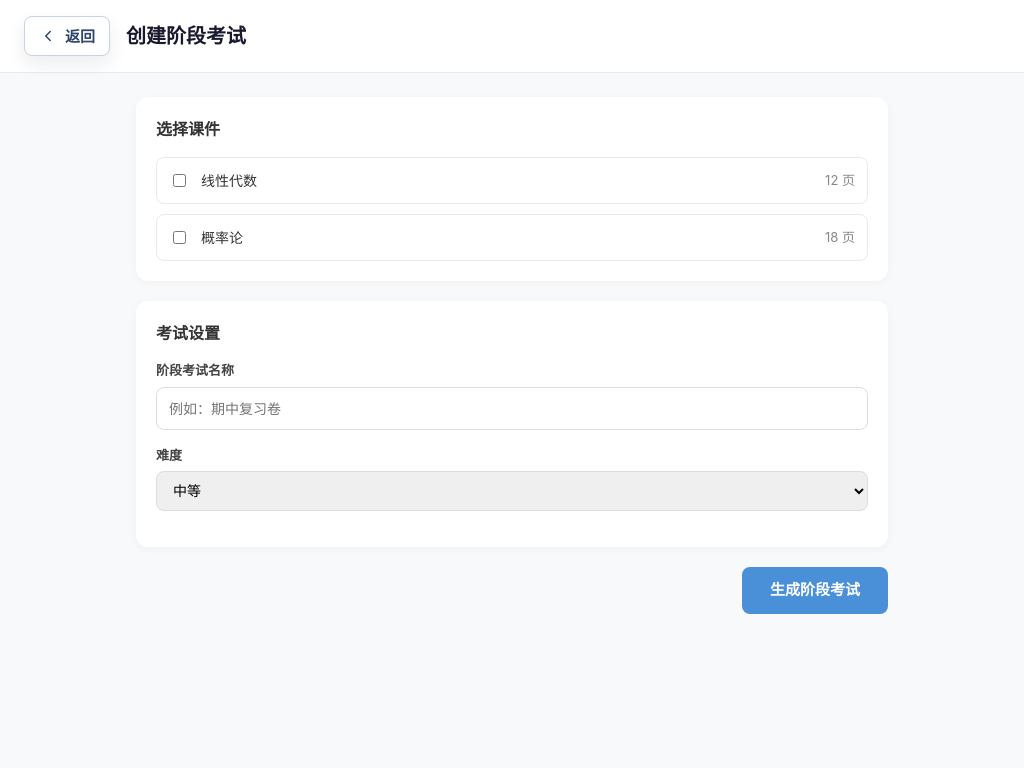
Test: PhaseExamCreateView › 提交阶段考试时传出选中的文档、名称和难度
// 用户可以像真实页面一样勾选两份课件。
Click the checkbox labelled "线性代数 12 页" at (180,180), box [173,174,186,187]
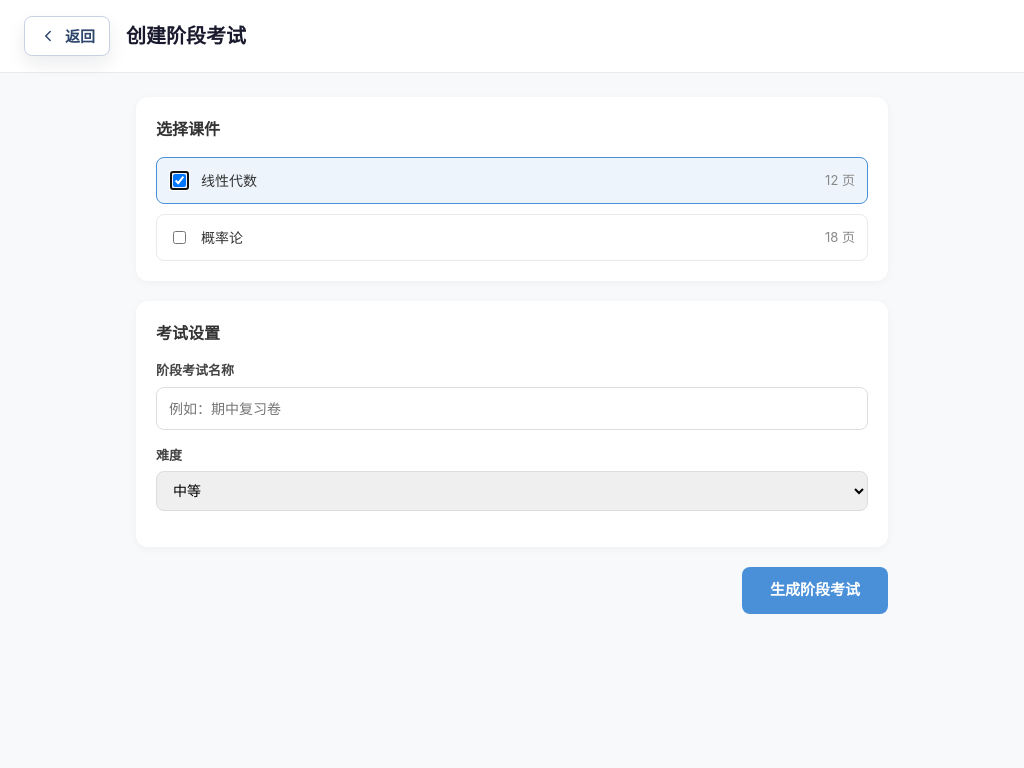
Click the checkbox labelled "概率论 18 页" at (180,238), box [173,231,186,244]
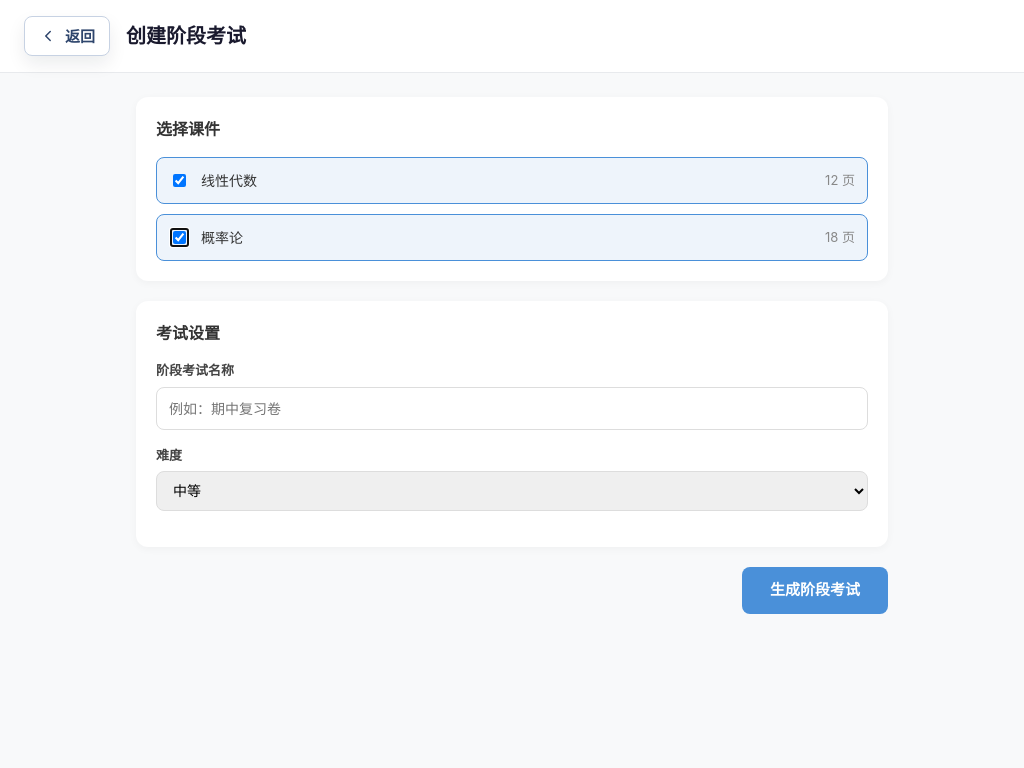
// 输入名称并选择难度后，提交按钮会调用父组件传入的创建函数。
Type "期中复习卷" into the field labelled "阶段考试名称" at (512,408), box [156,386,868,430]
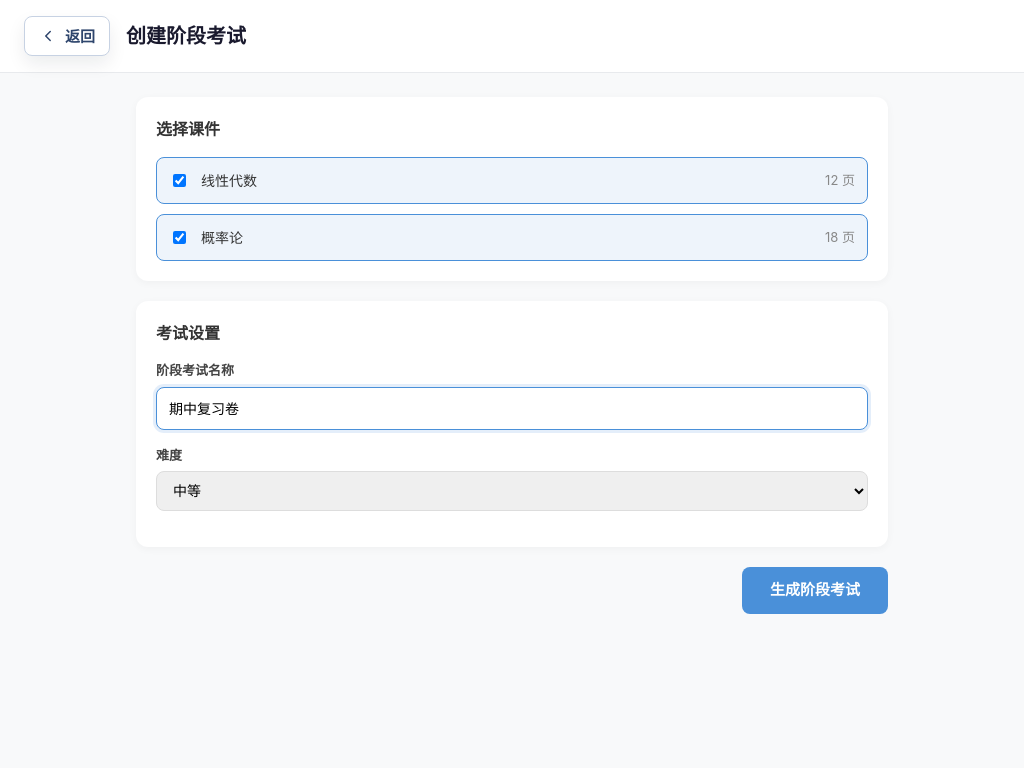
Select "困难" in the dropdown labelled "难度" at (512,491), box [156,471,868,511]
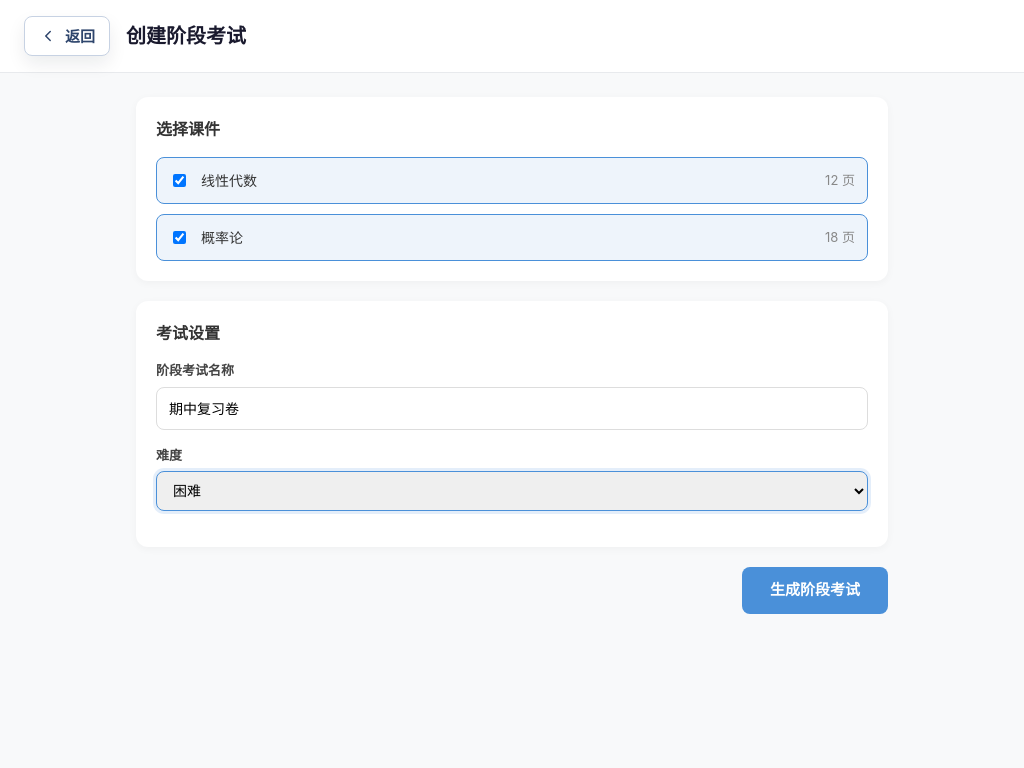
Click the button "生成阶段考试" at (815,590), box [742,567,888,614]
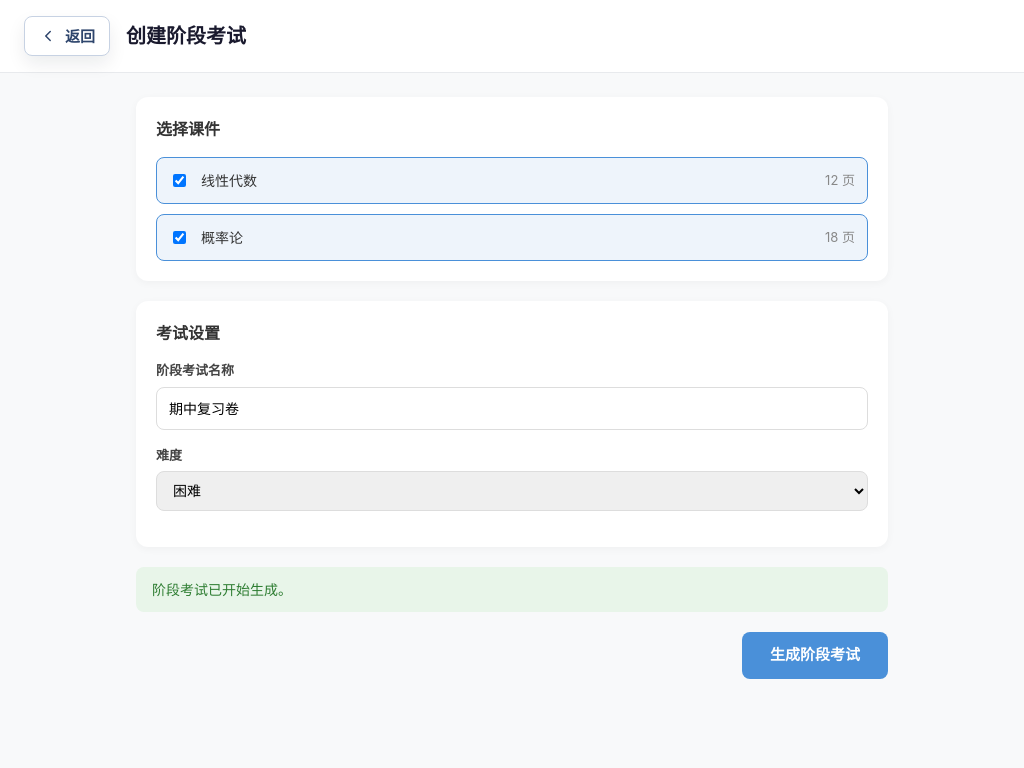
Now the text "阶段考试已开始生成。" is shown, box [136,567,888,612]
